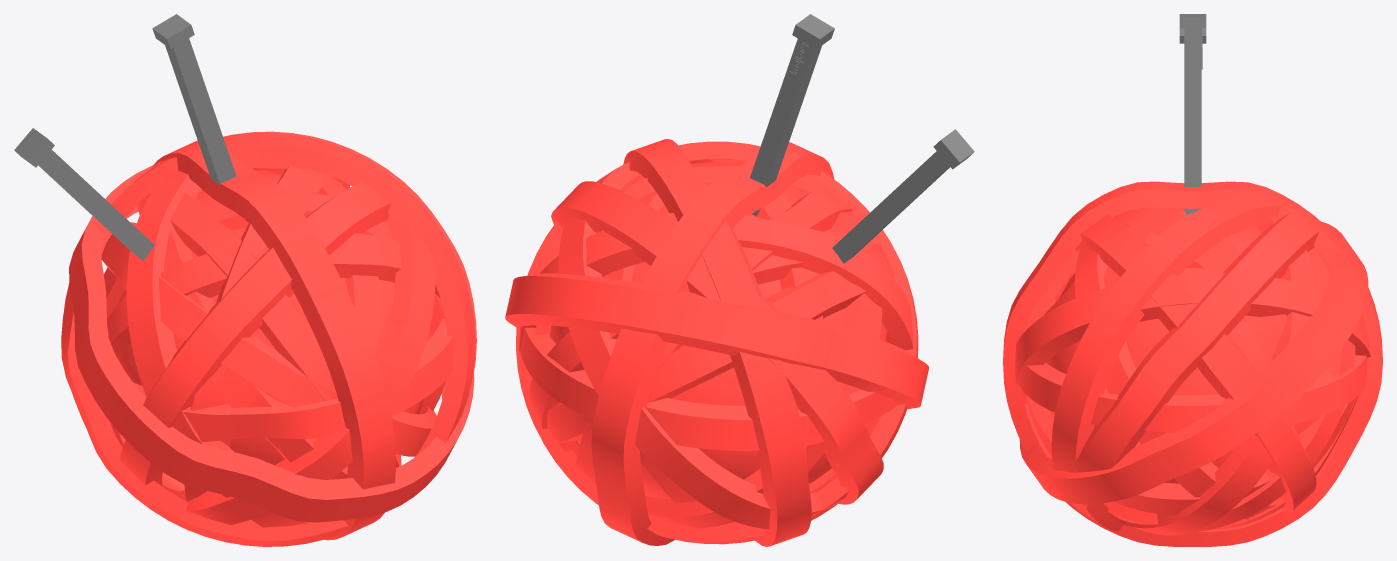
File: yarn.gltf
3 renders of one model, left to right at view 1: azimuth 30°, elevation 25°; view 2: azimuth 150°, elevation 25°; view 3: azimuth 270°, elevation 25°, orthographic. The views are drawn at different scales.
Visible parts, largest first — view 1: Sphere.354; view 2: Sphere.354; view 3: Sphere.354.
Boxes of the visible parts, x1,y1,x2,y2 form: Sphere.354: (14, 14, 476, 546); Sphere.354: (505, 14, 974, 546); Sphere.354: (1003, 14, 1382, 546).
Bounding box in the file's own units: 2 × 2.35 × 1.71.
1 material, 1 textured.
